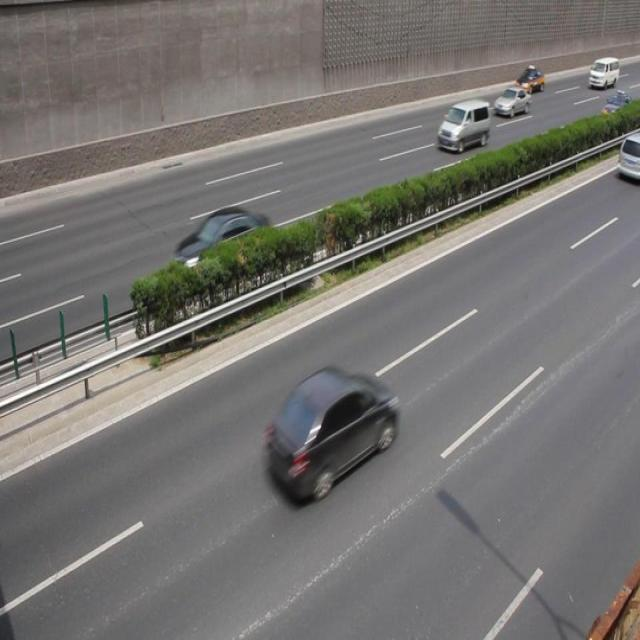car: (265, 369, 398, 501), (171, 207, 274, 290), (614, 134, 640, 184), (493, 86, 530, 119), (600, 88, 630, 124), (514, 64, 543, 95)
truck: (436, 97, 488, 152), (588, 57, 618, 89)
